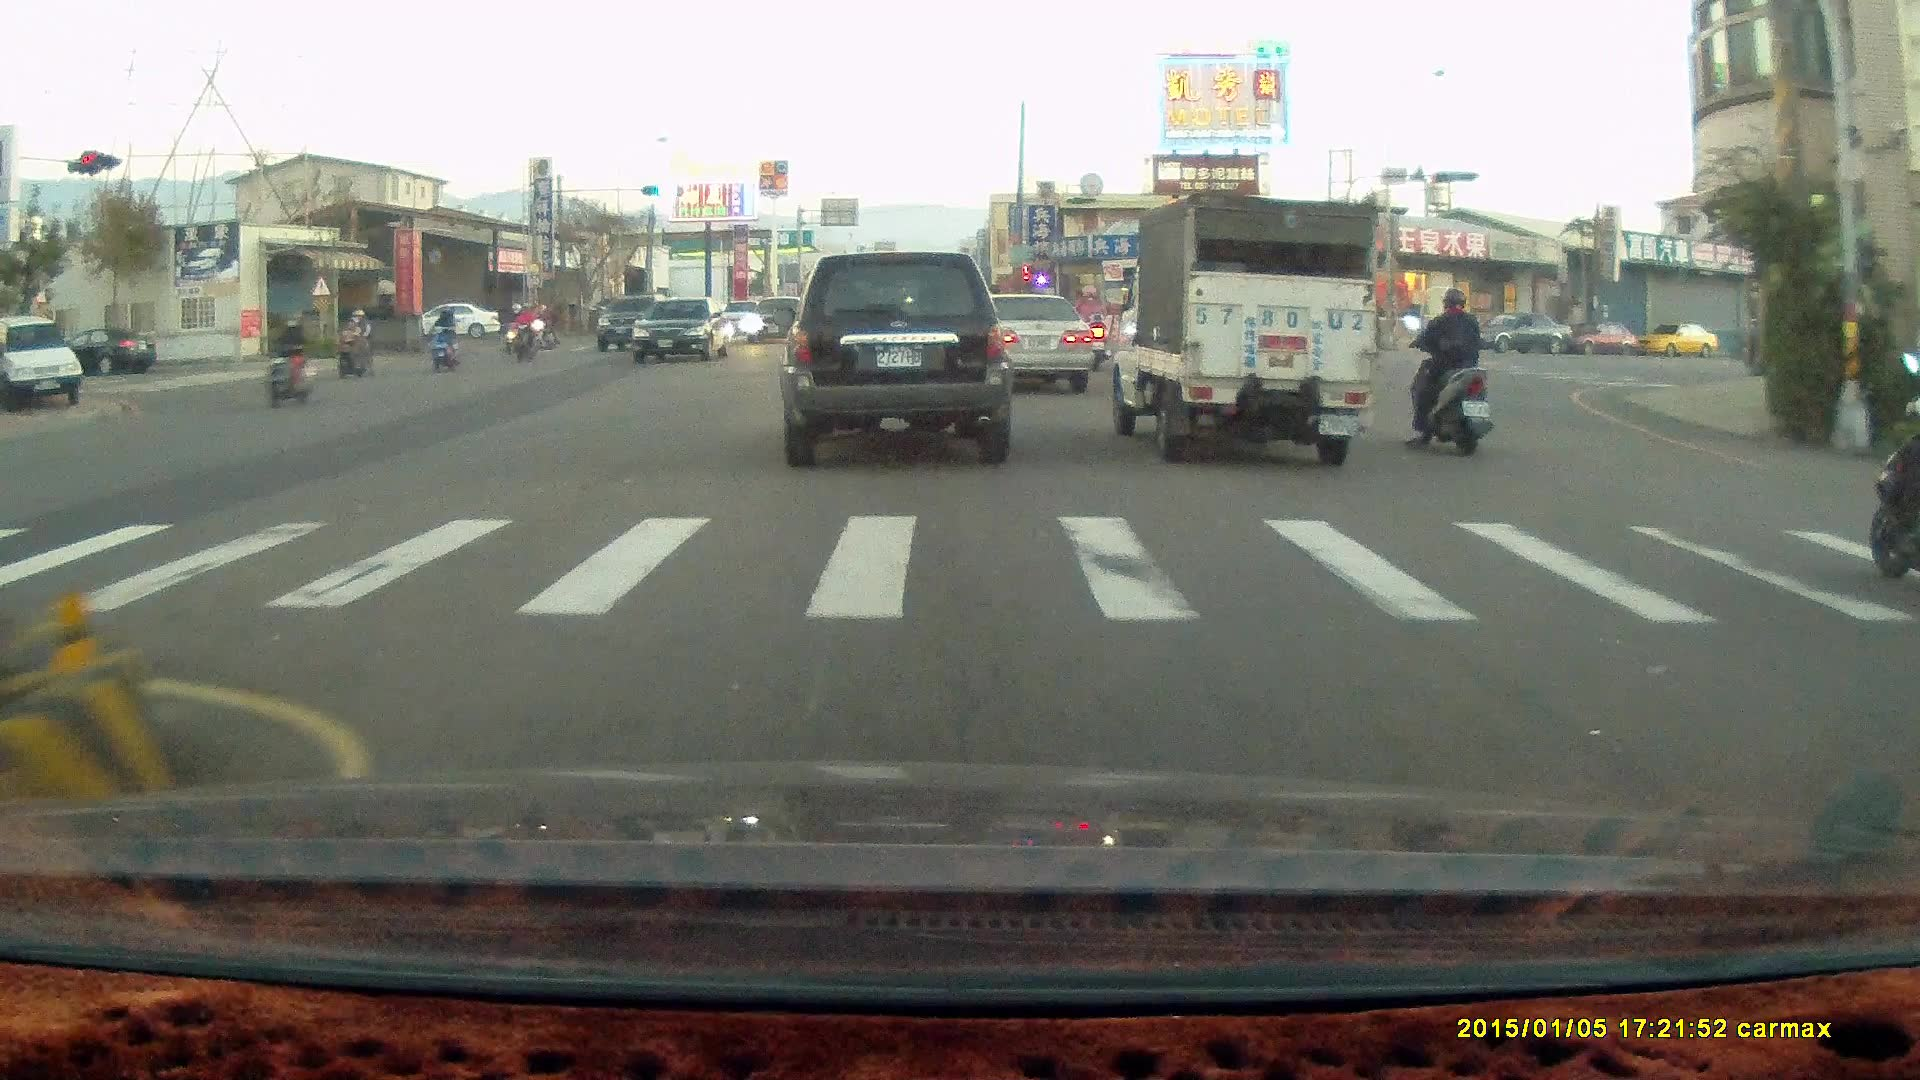rider: (1400, 282, 1496, 458), (1869, 405, 1920, 582), (260, 316, 318, 406), (335, 304, 376, 381), (425, 302, 458, 372), (508, 298, 536, 362), (500, 298, 530, 353)
vehicle: (1101, 190, 1381, 466), (777, 250, 1015, 469), (968, 290, 1095, 397), (963, 290, 1092, 392), (1, 314, 86, 411), (631, 298, 738, 367), (1464, 313, 1575, 359), (1633, 324, 1721, 362), (421, 303, 504, 342), (1564, 320, 1641, 359)
